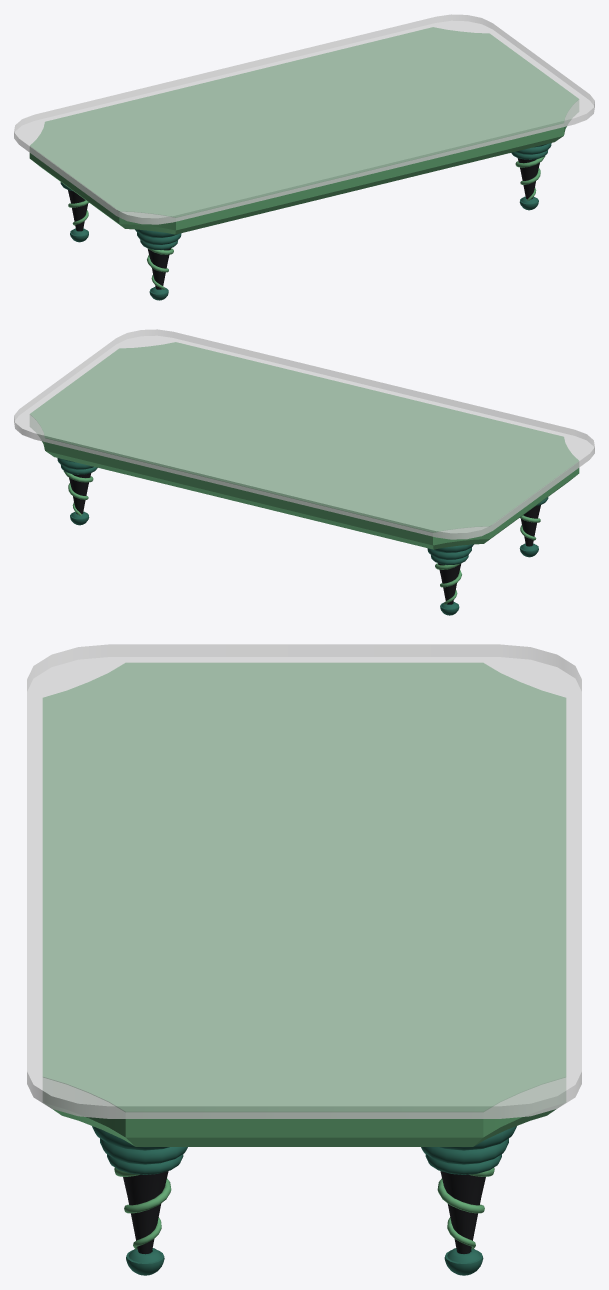
The model's file is Furn_TableFloatingSmall_Green_A.glb.
The picture shows the model from 3 angles, top to bottom: view 1: azimuth 30°, elevation 25°; view 2: azimuth 150°, elevation 25°; view 3: azimuth 270°, elevation 25°; orthographic projection. The views are drawn at different scales.
Parts seen in each view (by area): view 1: Furn_TableFloatingSmall_Green_A.001; view 2: Furn_TableFloatingSmall_Green_A.001; view 3: Furn_TableFloatingSmall_Green_A.001.
Boxes of the visible parts, <box> form: Furn_TableFloatingSmall_Green_A.001: <box>14,14,594,300</box>; Furn_TableFloatingSmall_Green_A.001: <box>14,329,594,615</box>; Furn_TableFloatingSmall_Green_A.001: <box>27,644,581,1275</box>.
Size of the model in its own units: 1.4 by 0.3043 by 0.7099.
